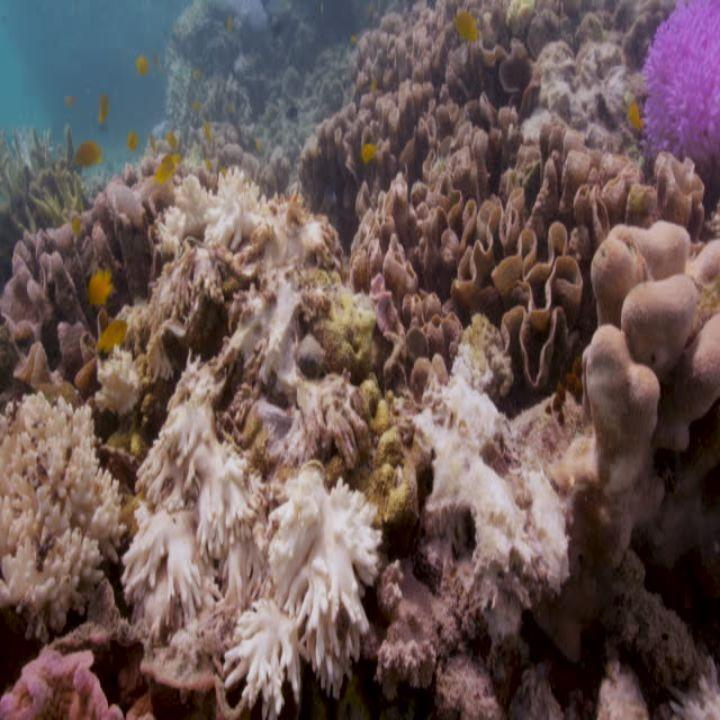Bleached disease: (114, 174, 384, 720), (356, 310, 601, 653), (0, 394, 124, 642)
